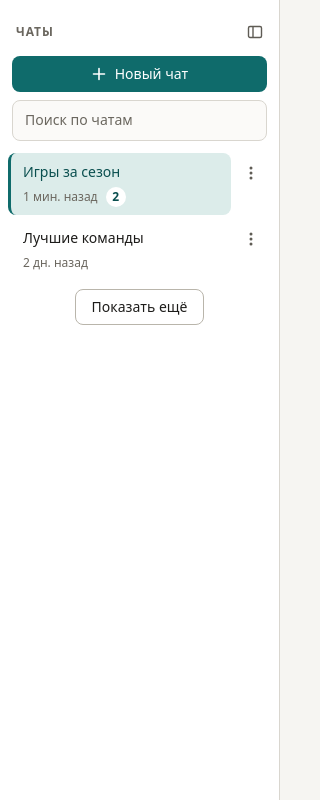
ChatList › appends the next page through «Показать ещё»
Click the button "Показать ещё" at point(140, 307), box [75,288,204,325]
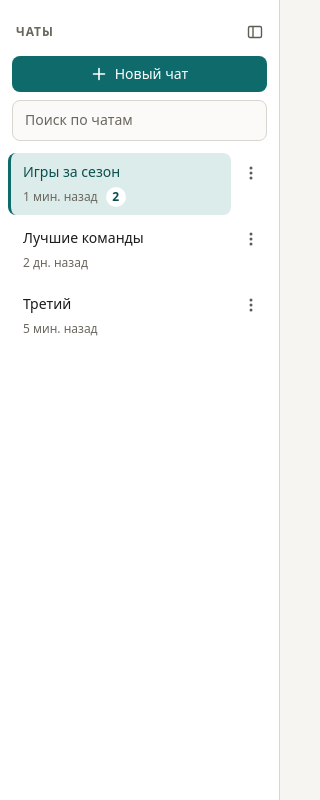
Expected: the number of list items is 3, [8,153,271,215]; [8,219,271,281]; [8,284,271,346]
Expected: the link "Третий 5 мин. назад" is shown, [23,294,98,337]
Expected: the button "Показать ещё" is gone
